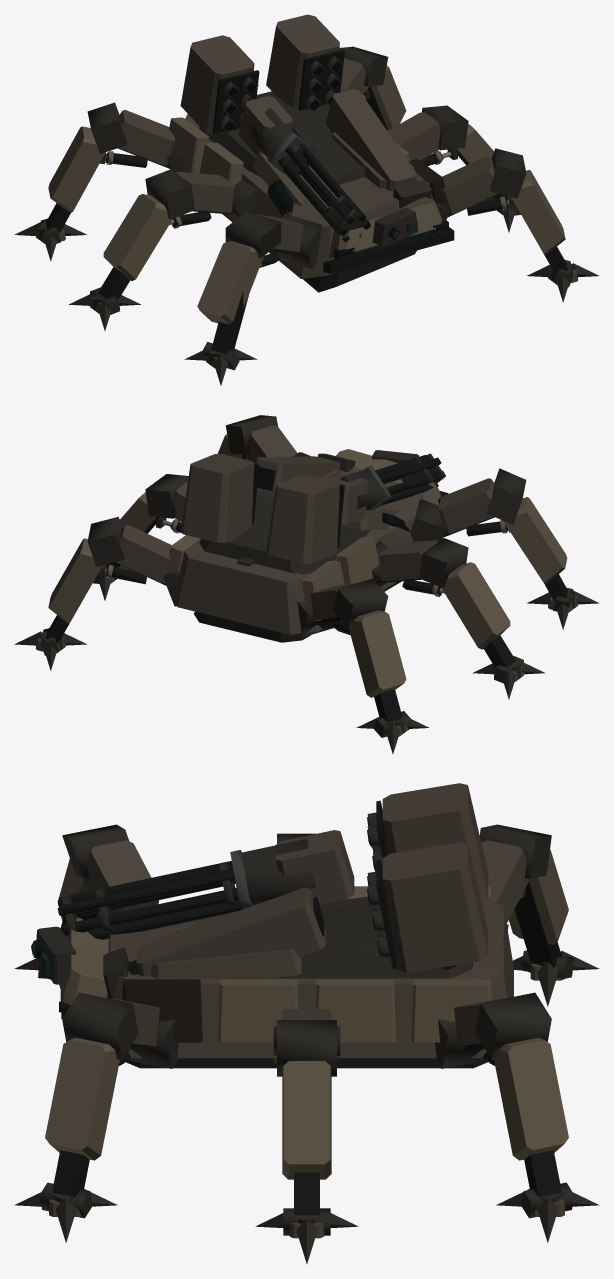
File: mx06_d3_lod2.meshopt.glb
3 views of the same model, one above another, from view 1: azimuth 30°, elevation 25°; view 2: azimuth 150°, elevation 25°; view 3: azimuth 270°, elevation 25° (orthographic). The views are drawn at different scales.
Parts seen in each view (by area): view 1: MX06_STATIC; view 2: MX06_STATIC; view 3: MX06_STATIC.
Boxes of the visible parts, left/top/right/bottom form: MX06_STATIC: left=14, top=14, right=599, bottom=385; MX06_STATIC: left=14, top=415, right=599, bottom=753; MX06_STATIC: left=14, top=783, right=599, bottom=1263.
Bounding box in the file's own units: 6.98 × 2.82 × 5.45.
